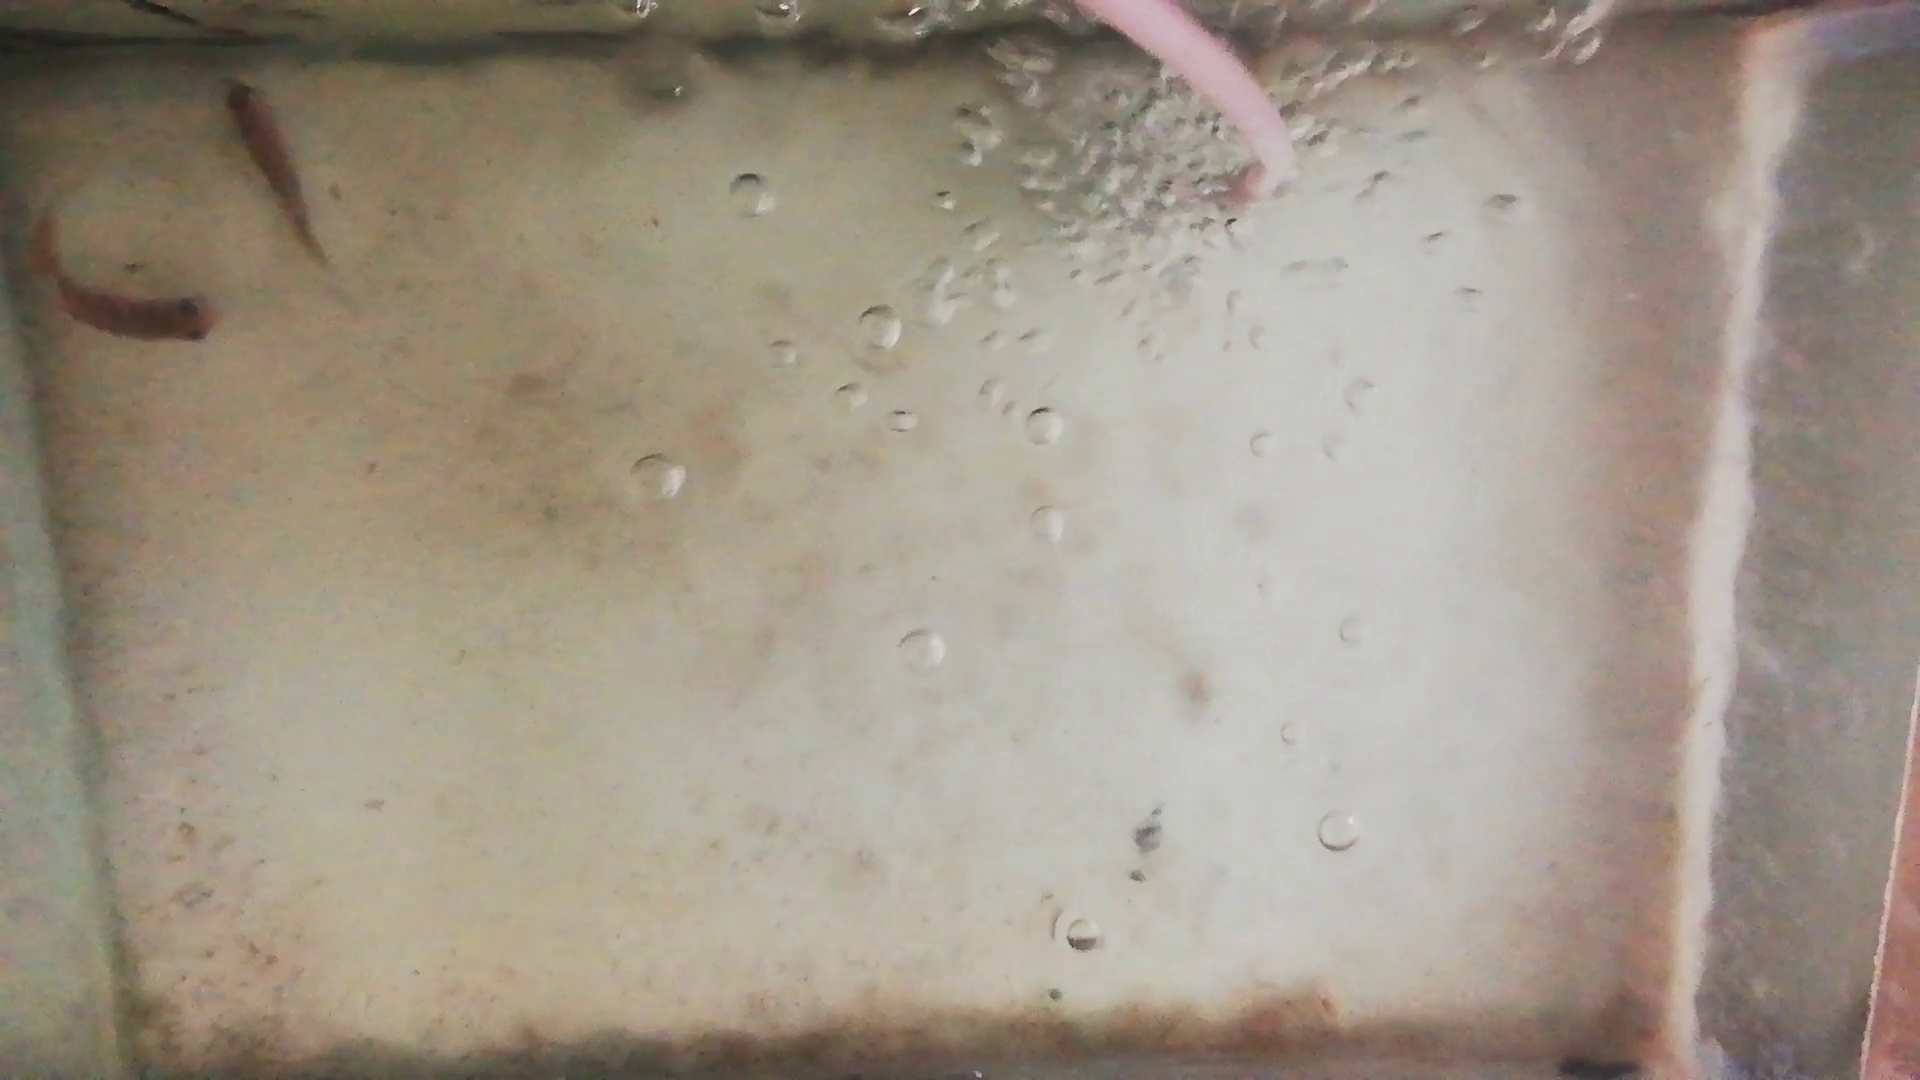fish: (34, 232, 224, 342), (220, 82, 324, 260)
